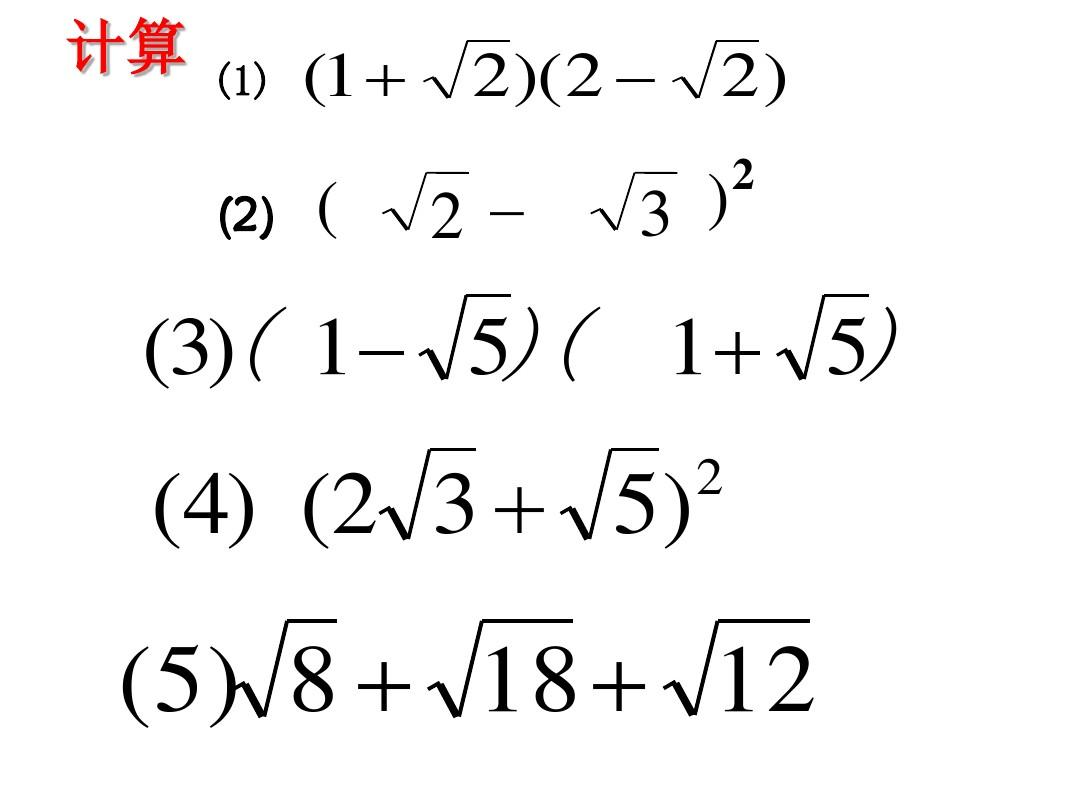sqrt: (657, 609, 817, 731), (425, 610, 580, 722), (236, 610, 346, 724), (789, 271, 893, 379), (378, 438, 483, 544), (564, 442, 670, 538), (423, 282, 514, 381), (587, 159, 686, 243), (387, 159, 471, 247), (677, 34, 769, 105), (426, 36, 519, 104)
square: (730, 154, 761, 189)
